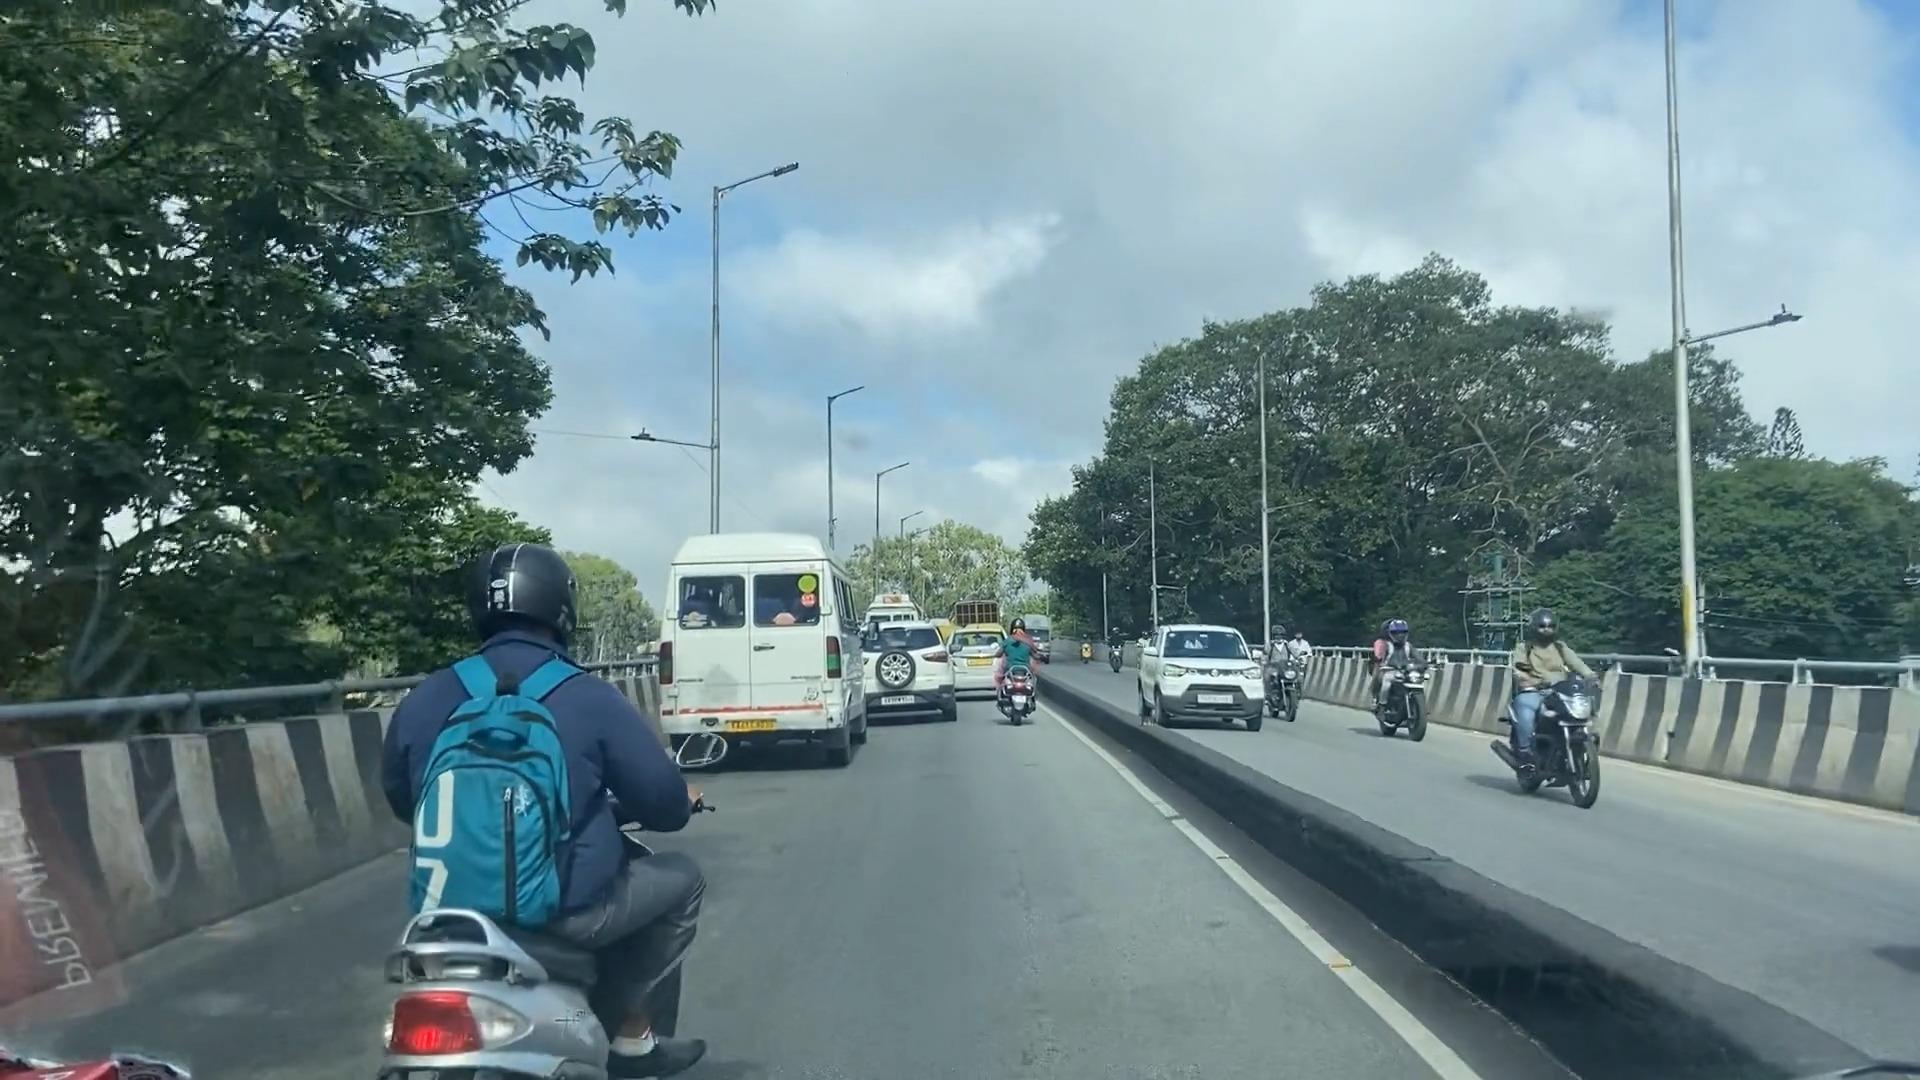HMV: (669, 550, 865, 753)
LMV: (388, 538, 667, 1080), (1001, 617, 1034, 723)
